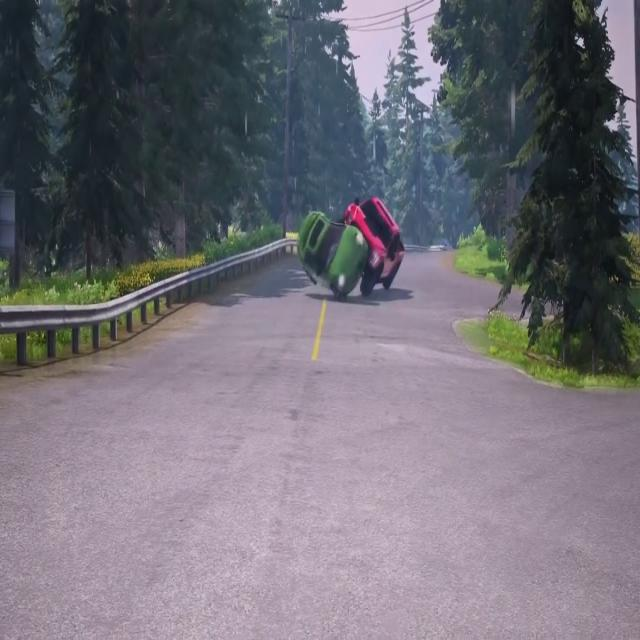accident: (296, 186, 408, 303)
